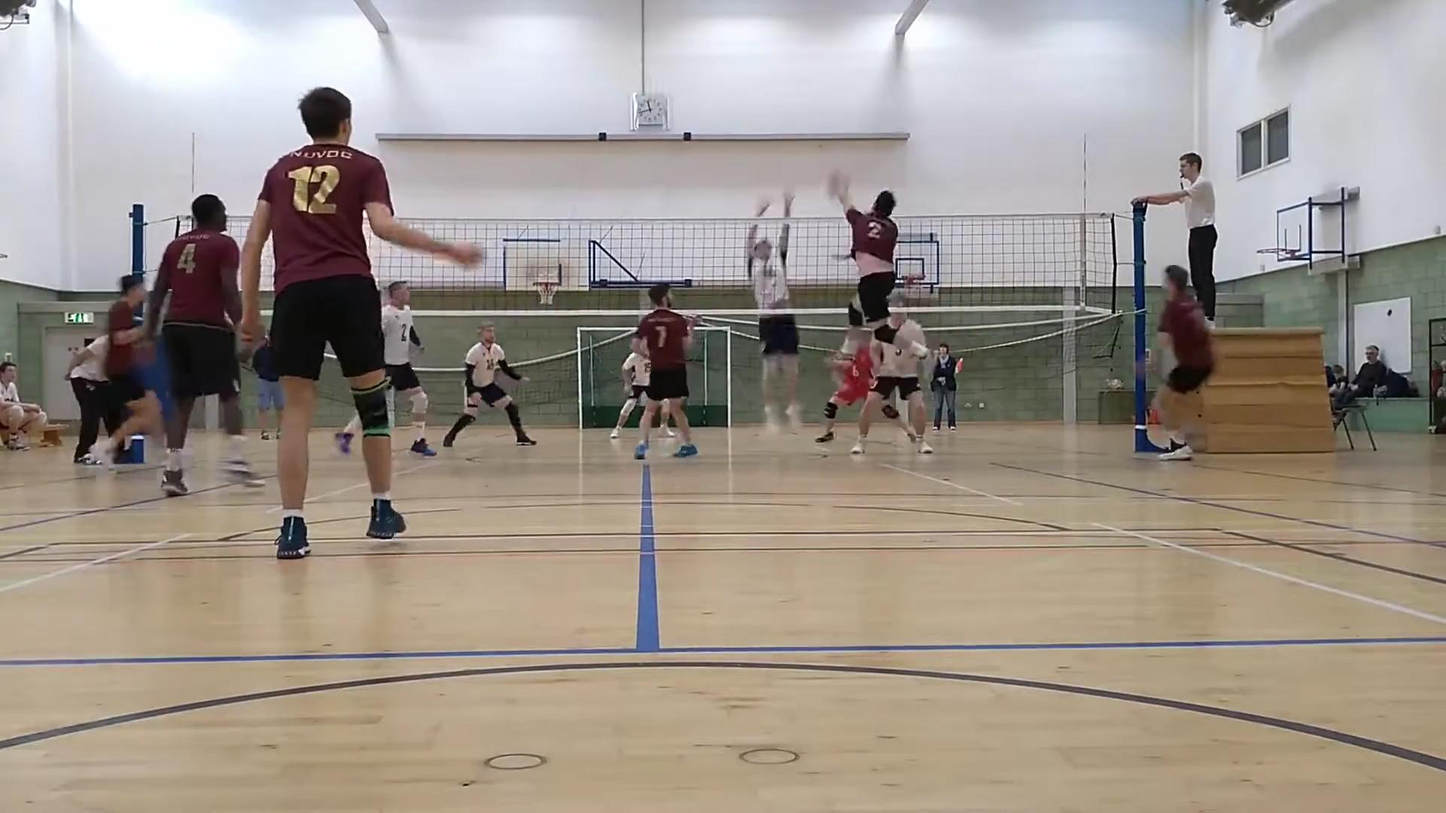attacco: (820, 167, 904, 378)
muro: (741, 189, 814, 449)
